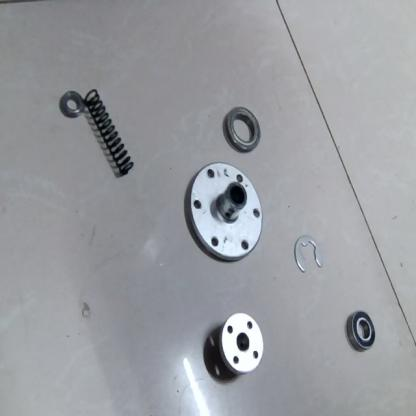FOD: (187, 162, 262, 258), (86, 86, 137, 183), (213, 310, 267, 374), (221, 100, 264, 154), (345, 307, 376, 354), (288, 236, 326, 274), (58, 90, 84, 121)
